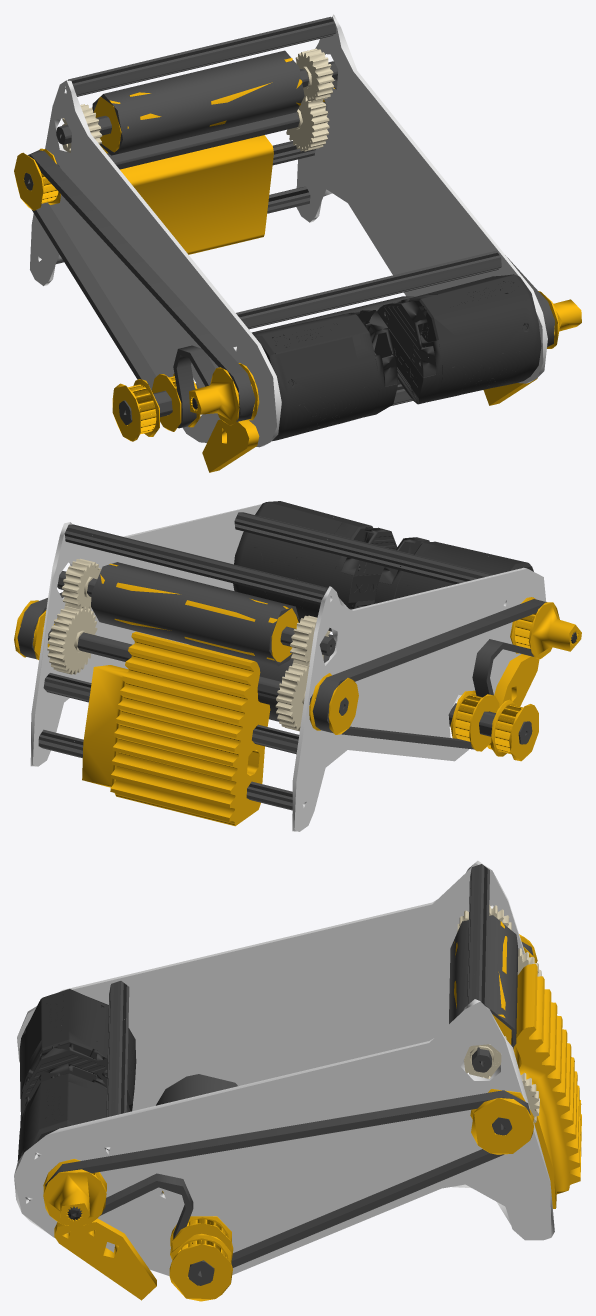
File: 604-hood.glb
The picture shows the model from 3 angles, top to bottom: view 1: azimuth 30°, elevation 25°; view 2: azimuth 150°, elevation 25°; view 3: azimuth 270°, elevation 25°; orthographic projection. The views are drawn at different scales.
Parts seen in each view (by area): view 1: Hood Plate, WCP Lightened Hex - 3-8 in, L: 6p5 in, Kraken X60 Brushless Motor, 3D Printed HTD5M Pulley - 18T, Bore: Spline XS, Hub L: 0p75 , Kraken X60 Back Cap (WCP), 20t Aluminum Spur Gear (20 DP, 3/8" Hex Bore); view 2: 3D Printed HTD5M Pulley - 18T, Bore: Spline XS, Hub L: 0p75 , WCP Lightened Hex - 3-8 in, L: 6p5 in, Hood Plate, Kraken X60 Brushless Motor, 20t Aluminum Spur Gear (20 DP, 3/8" Hex Bore), Kraken X60 Back Cap (WCP); view 3: Hood Plate, WCP Lightened Hex - 3-8 in, L: 6p5 in, 3D Printed HTD5M Pulley - 18T, Bore: Spline XS, Hub L: 0p75 , Kraken X60 Brushless Motor, Kraken X60 Back Cap (WCP), 20t Aluminum Spur Gear (20 DP, 3/8" Hex Bore).
Boxes of the visible parts, x1=… form: Hood Plate: x1=30, y1=14, x2=547, y2=447; WCP Lightened Hex - 3-8 in, L: 6p5 in: x1=24, y1=16, x2=554, y2=428; Kraken X60 Brushless Motor: x1=192, y1=274, x2=541, y2=441; 3D Printed HTD5M Pulley - 18T, Bore: Spline XS, Hub L: 0p75 : x1=14, y1=58, x2=581, y2=472; Kraken X60 Back Cap (WCP): x1=349, y1=300, x2=436, y2=386; 20t Aluminum Spur Gear (20 DP, 3/8" Hex Bore): x1=55, y1=48, x2=334, y2=164; 3D Printed HTD5M Pulley - 18T, Bore: Spline XS, Hub L: 0p75 : x1=14, y1=563, x2=581, y2=826; WCP Lightened Hex - 3-8 in, L: 6p5 in: x1=17, y1=512, x2=546, y2=810; Hood Plate: x1=30, y1=504, x2=546, y2=831; Kraken X60 Brushless Motor: x1=233, y1=501, x2=577, y2=643; 20t Aluminum Spur Gear (20 DP, 3/8" Hex Bore): x1=47, y1=558, x2=330, y2=731; Kraken X60 Back Cap (WCP): x1=341, y1=526, x2=429, y2=584; Hood Plate: x1=14, y1=860, x2=554, y2=1275; WCP Lightened Hex - 3-8 in, L: 6p5 in: x1=45, y1=864, x2=533, y2=1285; 3D Printed HTD5M Pulley - 18T, Bore: Spline XS, Hub L: 0p75 : x1=43, y1=921, x2=581, y2=1301; Kraken X60 Brushless Motor: x1=17, y1=989, x2=136, y2=1219; Kraken X60 Back Cap (WCP): x1=20, y1=1043, x2=107, y2=1129; 20t Aluminum Spur Gear (20 DP, 3/8" Hex Bore): x1=457, y1=904, x2=541, y2=1122.
Bounding box in the file's own units: 0.2541 × 0.1667 × 0.2903.
